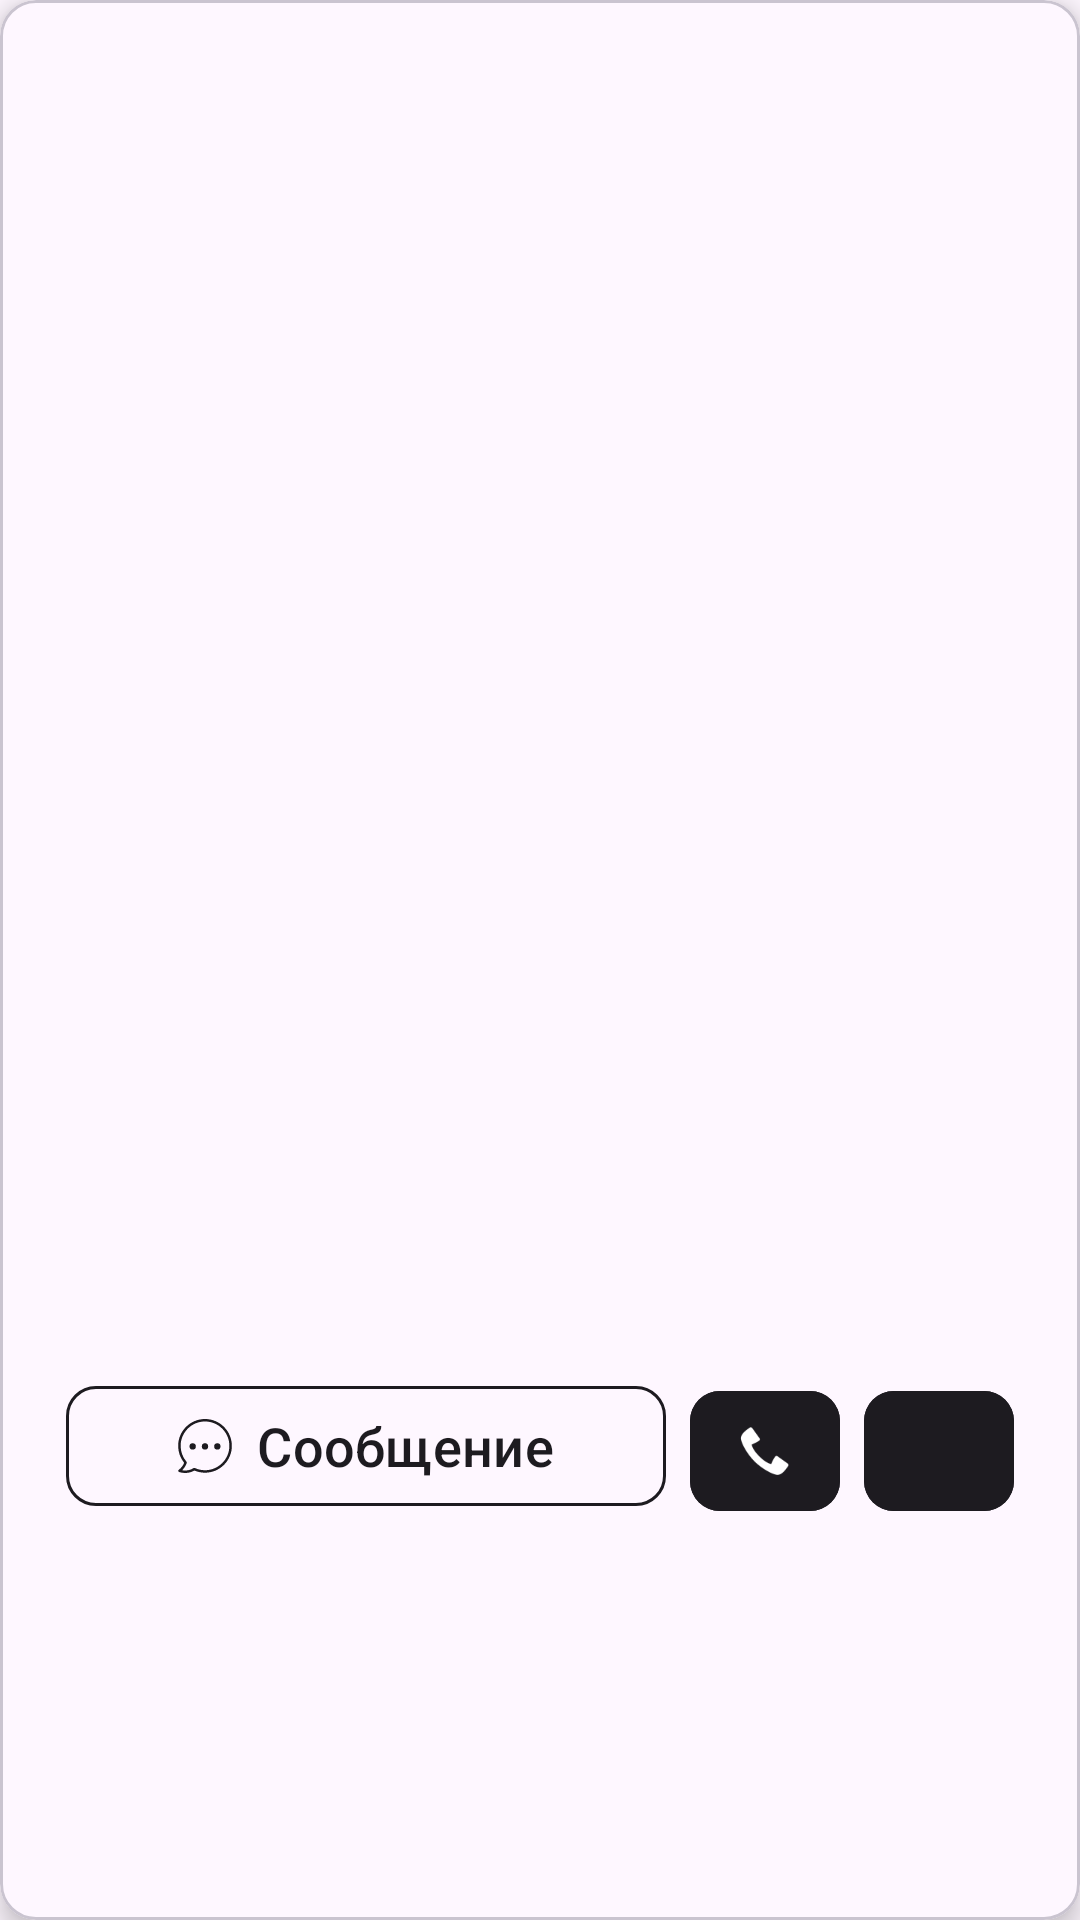

Icon click points for this 1080w x 1920h phone screenshot, format [x,y]:
phone call: [765,1451]
